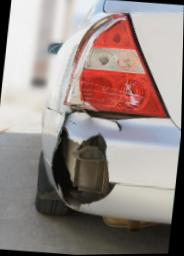Bumper: (39, 111, 159, 207)
